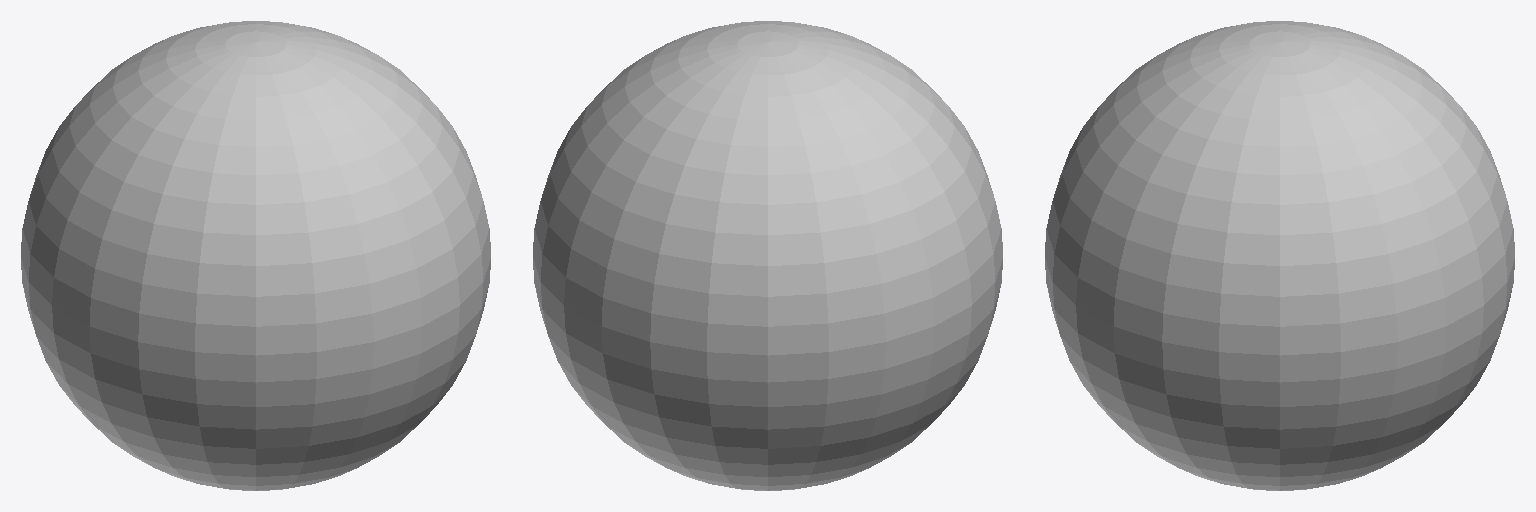
The model's file is ball.obj.
3 renders of one model, left to right at view 1: azimuth 30°, elevation 25°; view 2: azimuth 150°, elevation 25°; view 3: azimuth 270°, elevation 25°, orthographic.
Visible parts, largest first — view 1: sphere.1; view 2: sphere.1; view 3: sphere.1.
Boxes of the visible parts, x1,y1,x2,y2 form: sphere.1: [21, 21, 490, 490]; sphere.1: [533, 21, 1002, 490]; sphere.1: [1045, 21, 1514, 490].
Size of the model in its own units: 0.21 by 0.21 by 0.21.